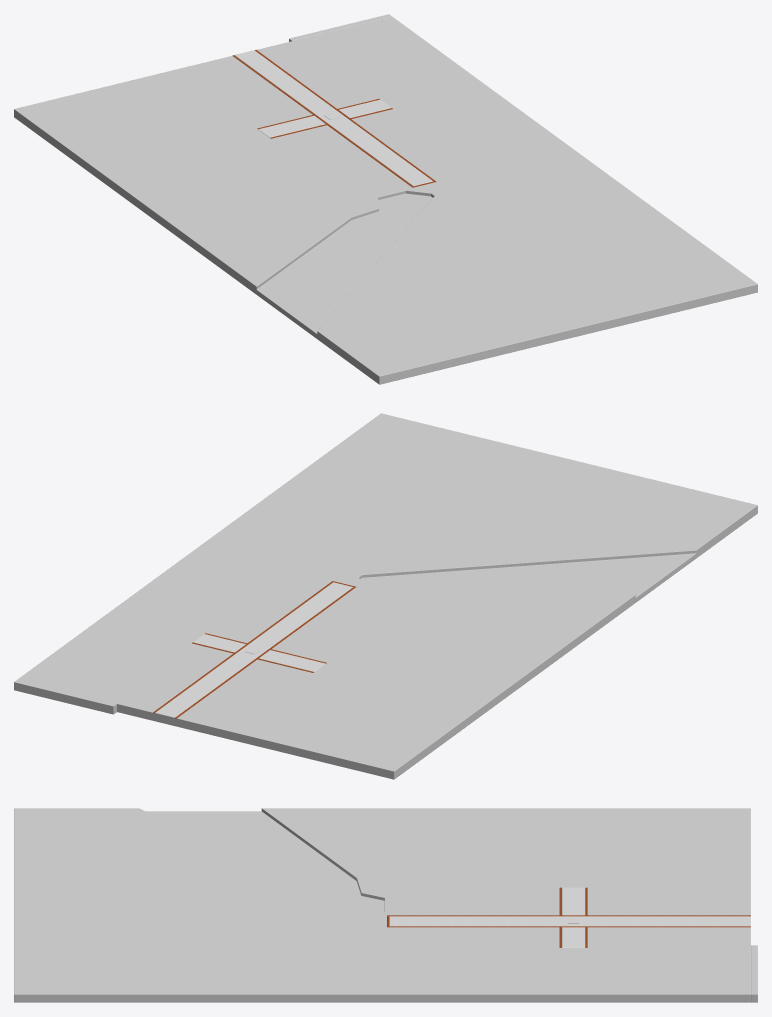
Rendered from Hub.fbx.
The picture shows the model from 3 angles, top to bottom: view 1: azimuth 30°, elevation 25°; view 2: azimuth 150°, elevation 25°; view 3: azimuth 270°, elevation 25°; orthographic projection.
Visible parts, largest first — view 1: HubGrass, PathMain, PathCrossA; view 2: HubGrass, PathMain, HubGrassRight, PathCrossA; view 3: HubGrass, PathMain, PathMainEdgeR, PathMainEdgeL, PathCrossA, PathCrossB, HubGrassRight.
Boxes of the visible parts, bbox=[...] form: HubGrass: bbox=[14, 16, 757, 384]; PathMain: bbox=[234, 50, 433, 186]; PathCrossA: bbox=[258, 115, 325, 137]; HubGrass: bbox=[18, 413, 757, 779]; PathMain: bbox=[155, 582, 352, 717]; HubGrassRight: bbox=[14, 679, 116, 714]; PathCrossA: bbox=[259, 650, 325, 671]; HubGrass: bbox=[14, 808, 750, 1002]; PathMain: bbox=[389, 916, 750, 926]; PathMainEdgeR: bbox=[387, 926, 750, 927]; PathMainEdgeL: bbox=[388, 915, 750, 916]; PathCrossA: bbox=[562, 887, 585, 915]; PathCrossB: bbox=[562, 927, 585, 947]; HubGrassRight: bbox=[751, 945, 757, 1002].
Size of the model in its own units: 189 by 4.4 by 319.
